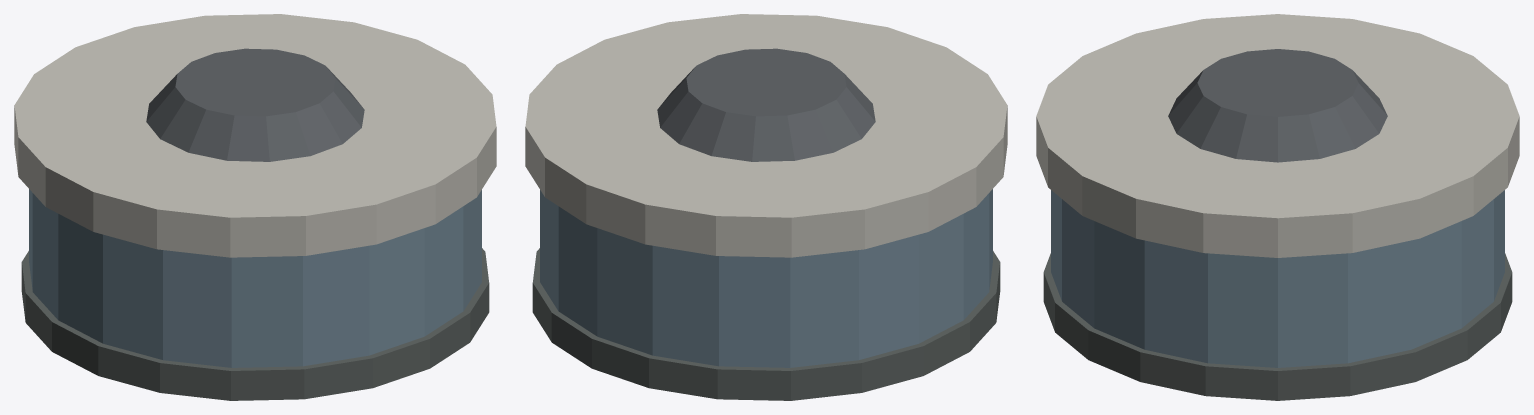
The model's file is let_budova_2.glb.
3 renders of one model, left to right at view 1: azimuth 30°, elevation 25°; view 2: azimuth 150°, elevation 25°; view 3: azimuth 270°, elevation 25°, orthographic.
Parts seen in each view (by area): view 1: dum; view 2: dum; view 3: dum.
Boxes of the visible parts, box(x1,y1,x2,y2) form: dum: box(14, 14, 496, 400); dum: box(525, 14, 1007, 400); dum: box(1036, 14, 1519, 400).
Size of the model in its own units: 13.2 by 6.6 by 13.2.
2 materials, 1 textured.
